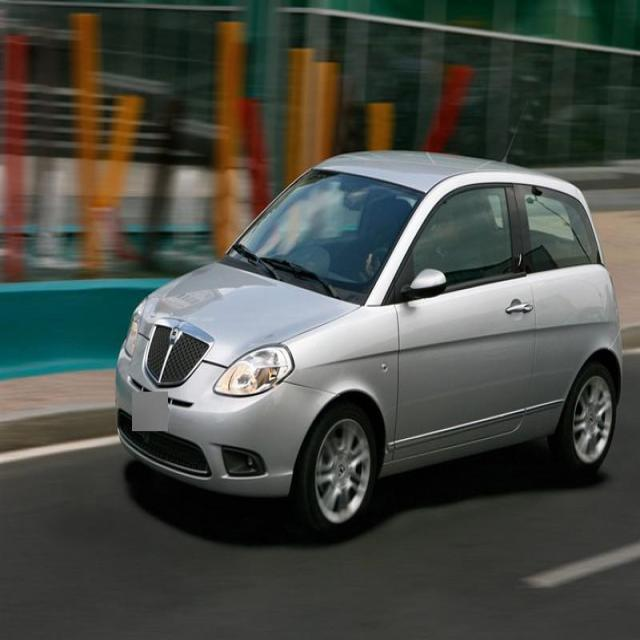front_bumper: (113, 348, 330, 498)
front_glass: (225, 165, 426, 306)
front_left_side_door: (390, 178, 538, 471)
front_left_side_light: (212, 342, 297, 398)
front_left_side_mirror: (403, 267, 449, 299)
front_right_side_light: (125, 308, 142, 361)
wheel: (298, 401, 375, 532), (551, 362, 617, 470)
